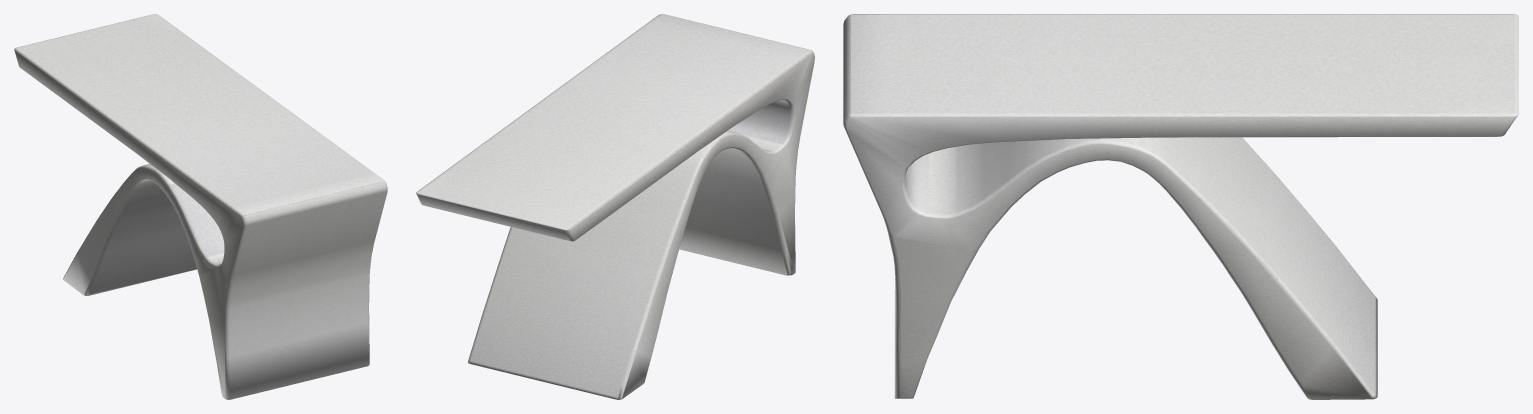
The model's file is office-desk.glb.
The picture shows the model from 3 angles, left to right: view 1: azimuth 30°, elevation 25°; view 2: azimuth 150°, elevation 25°; view 3: azimuth 270°, elevation 25°; orthographic projection. The views are drawn at different scales.
Parts seen in each view (by area): view 1: Material_001-material; view 2: Material_001-material; view 3: Material_001-material.
Boxes of the visible parts, x1,y1,x2,y2 form: Material_001-material: (14,14,387,399); Material_001-material: (416,14,814,399); Material_001-material: (843,14,1518,399).
Bounding box in the file's own units: 0.6574 × 0.8534 × 1.83.
Materials: 1 (1 with a texture image).
